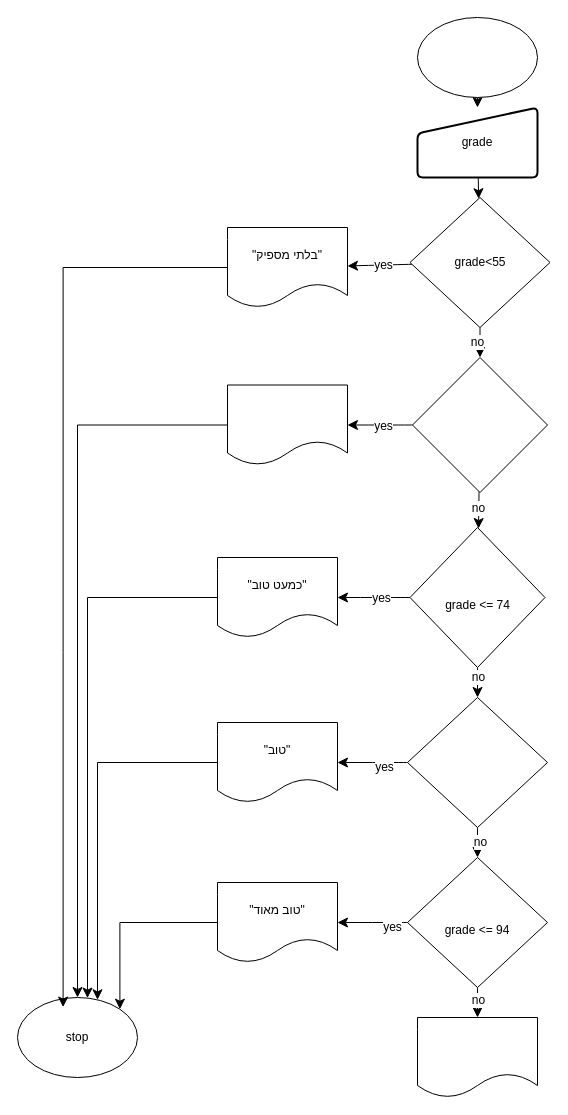
This 568x1115 diagram has some shape labels left out. The shapes that lost their labels are listed below. From the top down, each one's centre as x and y in pixels, then its label:
the point at 477,57: start
the point at 287,424: "מספיק"
the point at 480,424: grade >= 55 and grade <= 64
the point at 477,762: grade <= 84
the point at 477,1057: "מצוין"
